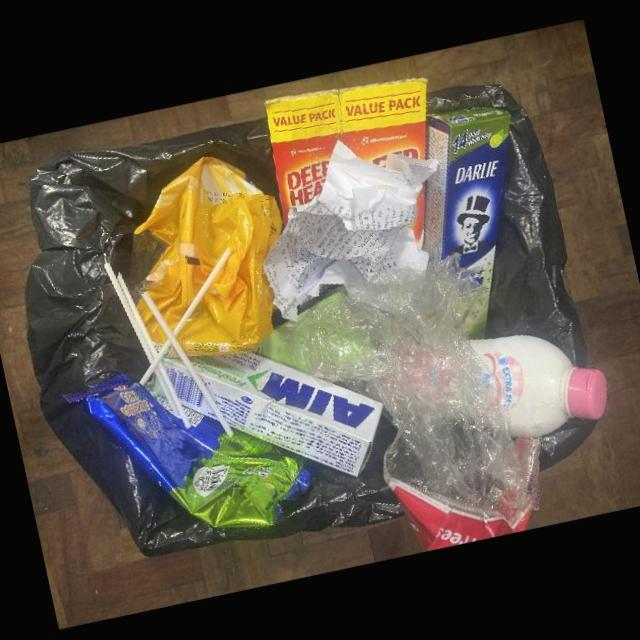bao_bi_thuc_pham: (57, 372, 320, 529), (133, 156, 282, 357)
carton: (265, 78, 436, 246), (153, 354, 383, 476), (422, 106, 511, 339)
giay: (262, 139, 438, 322)
hop_nhua: (364, 335, 606, 438)
ong_hut_nhua: (141, 291, 233, 436), (139, 246, 231, 385), (103, 262, 180, 416), (117, 271, 191, 428)
tui_ni_long: (285, 252, 541, 552)
